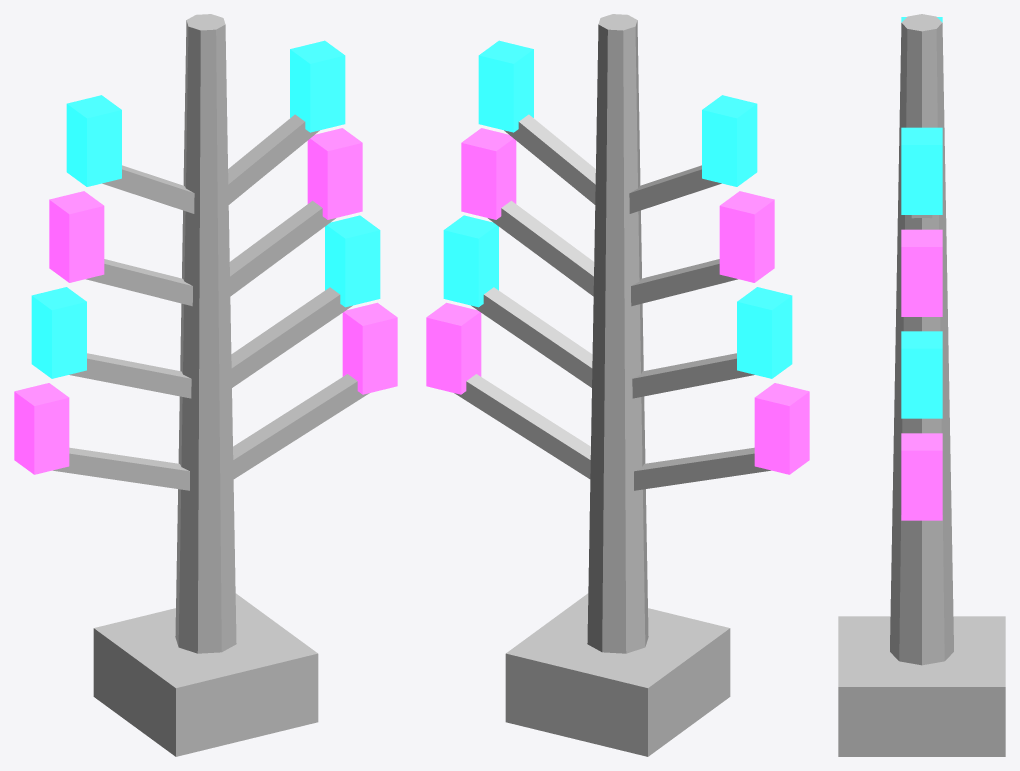
3 renders of one model, left to right at view 1: azimuth 30°, elevation 25°; view 2: azimuth 150°, elevation 25°; view 3: azimuth 270°, elevation 25°, orthographic.
Visible parts, largest first — view 1: Neon_AntennaTree_Standard; view 2: Neon_AntennaTree_Standard; view 3: Neon_AntennaTree_Standard.
Part boxes in pixels (<box>): Neon_AntennaTree_Standard: <box>14,14,397,756</box>; Neon_AntennaTree_Standard: <box>426,14,809,756</box>; Neon_AntennaTree_Standard: <box>838,14,1005,756</box>.
Size of the model in its own units: 1.66 by 3 by 0.65.
